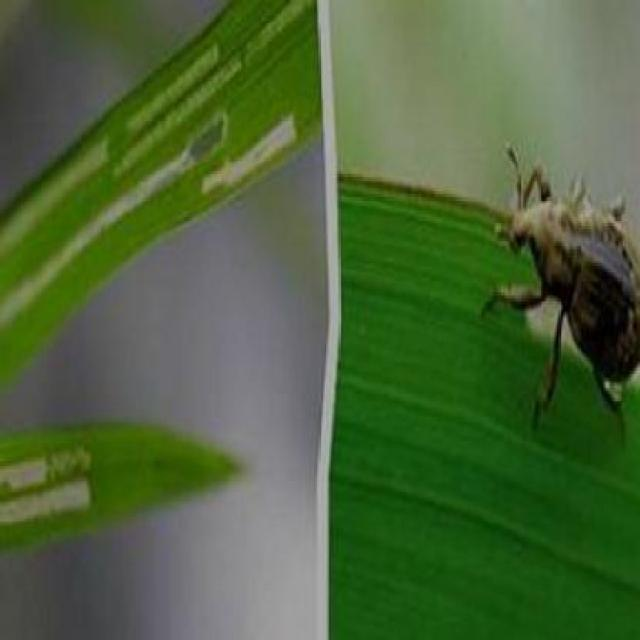rice-bug: (497, 158, 635, 416)
